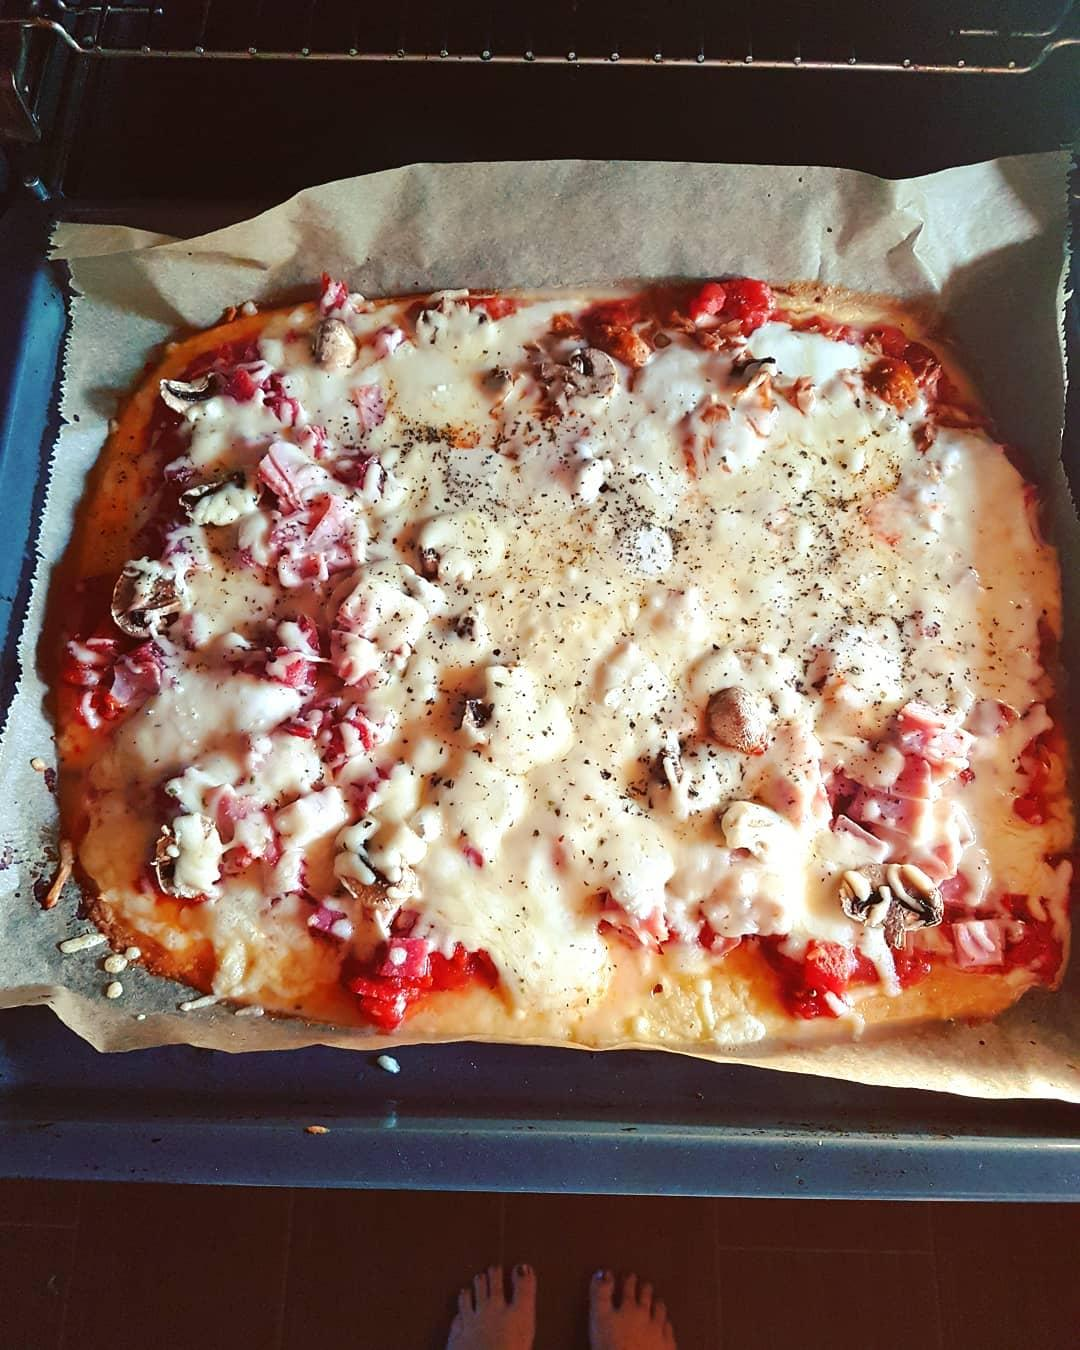Ham: (832, 705, 964, 846), (208, 785, 271, 877), (950, 912, 1014, 974), (377, 928, 433, 985)
Mushroom: (833, 860, 946, 942), (109, 557, 188, 644), (703, 678, 778, 759), (330, 856, 415, 914), (555, 348, 622, 418), (184, 469, 253, 525), (159, 370, 230, 420), (150, 816, 186, 901), (460, 692, 503, 750), (418, 534, 444, 577)
Onion: (277, 687, 384, 784), (61, 634, 169, 725), (264, 507, 369, 584), (260, 439, 347, 509), (258, 604, 323, 690), (347, 382, 406, 444), (263, 382, 312, 429), (230, 360, 278, 403)
Pizza: (55, 276, 1080, 1039)
